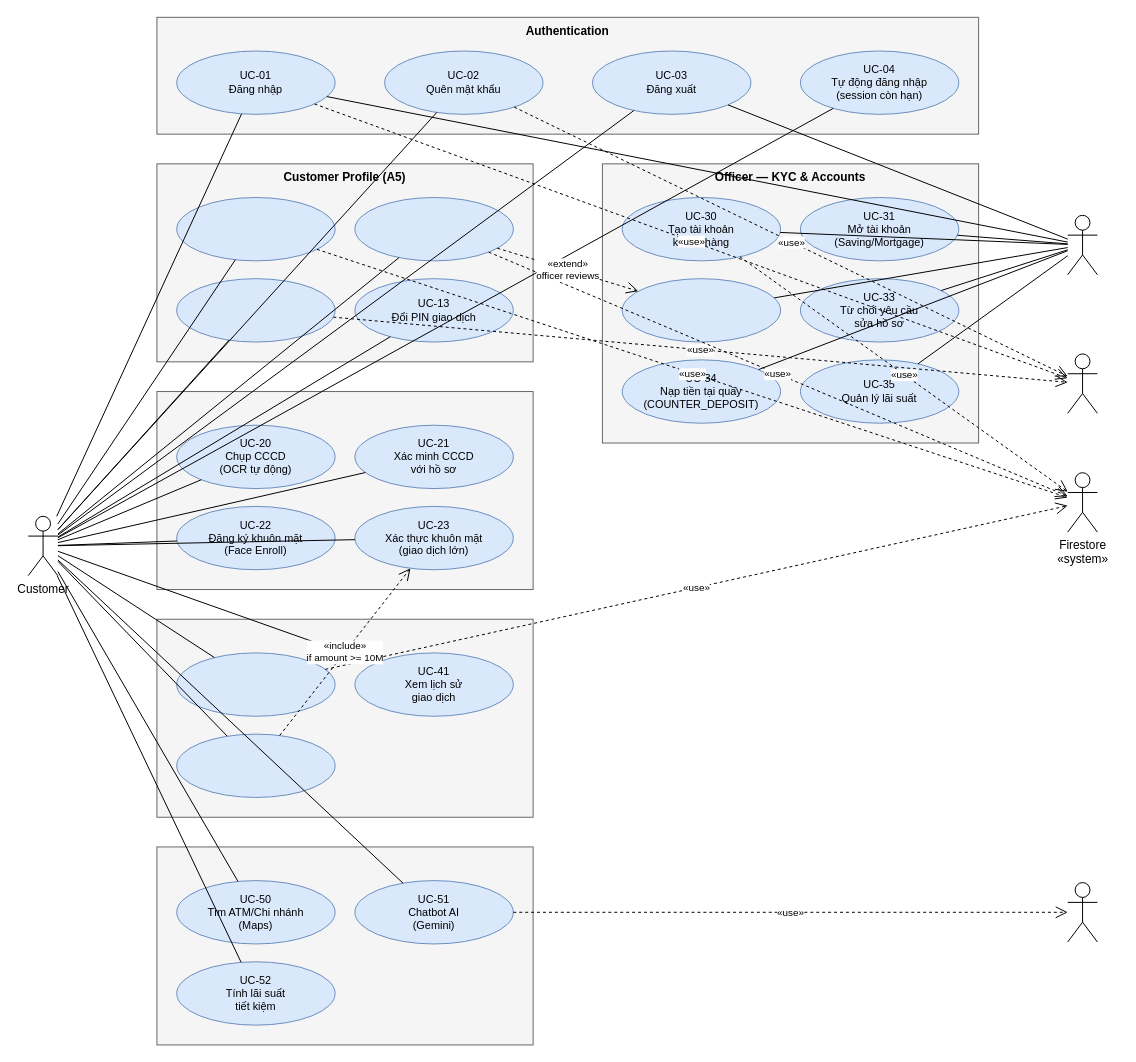
This 1136x1062 diagram has some shape labels left out. The box of each missing label's shape, as (x1, y1, x2, y2) in pixels:
eKYC (A4, A7): (156, 391, 533, 590)
Firebase Auth «system»: (1067, 353, 1097, 413)
Gemini AI «system»: (1067, 882, 1097, 942)
Officer: (1067, 214, 1097, 275)
Transactions (Dev B): (156, 618, 533, 817)
UC-10 Xem hồ sơ cá nhân: (176, 197, 335, 261)
UC-11 Yêu cầu sửa hồ sơ (phone/email/address): (354, 197, 513, 261)
UC-12 Đổi mật khẩu: (176, 278, 335, 342)
UC-32 Duyệt yêu cầu sửa hồ sơ: (621, 278, 781, 342)
UC-40 Chuyển khoản nội bộ: (176, 652, 335, 716)
UC-42 Xác nhận giao dịch (PIN / Face): (176, 733, 335, 797)
Utilities (Dev C): (156, 846, 533, 1045)
